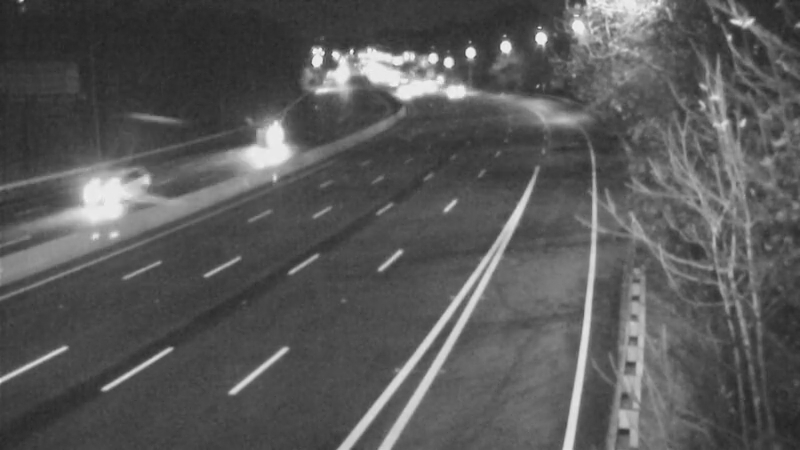vehicle: (58, 158, 138, 238), (377, 66, 427, 116), (421, 71, 471, 121), (246, 113, 296, 163)
